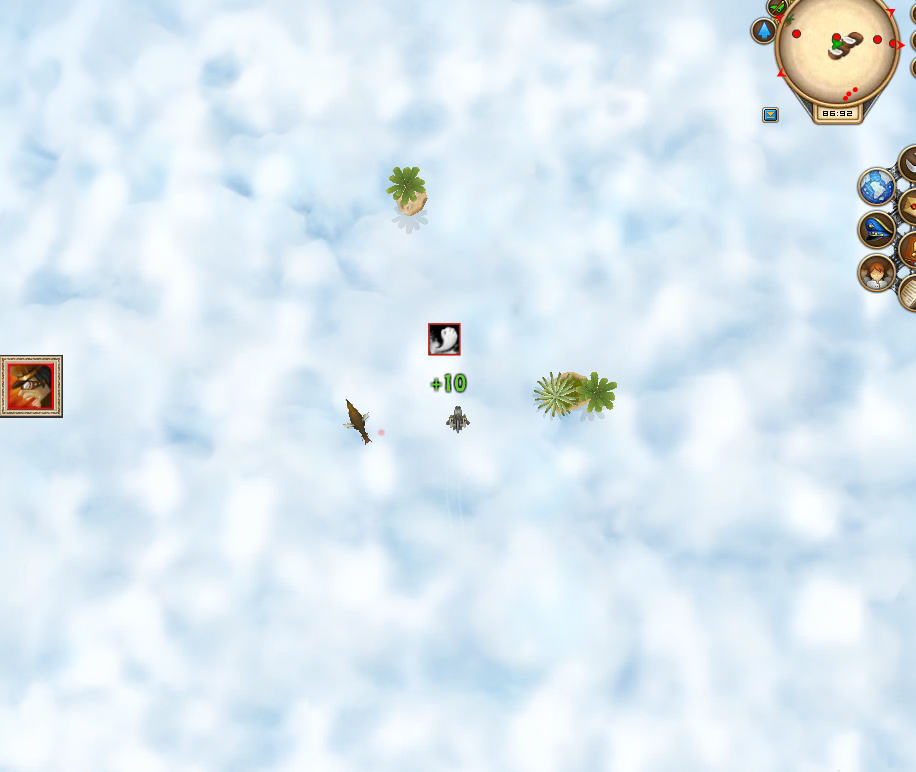palm: (529, 360, 620, 427), (379, 161, 438, 228)
